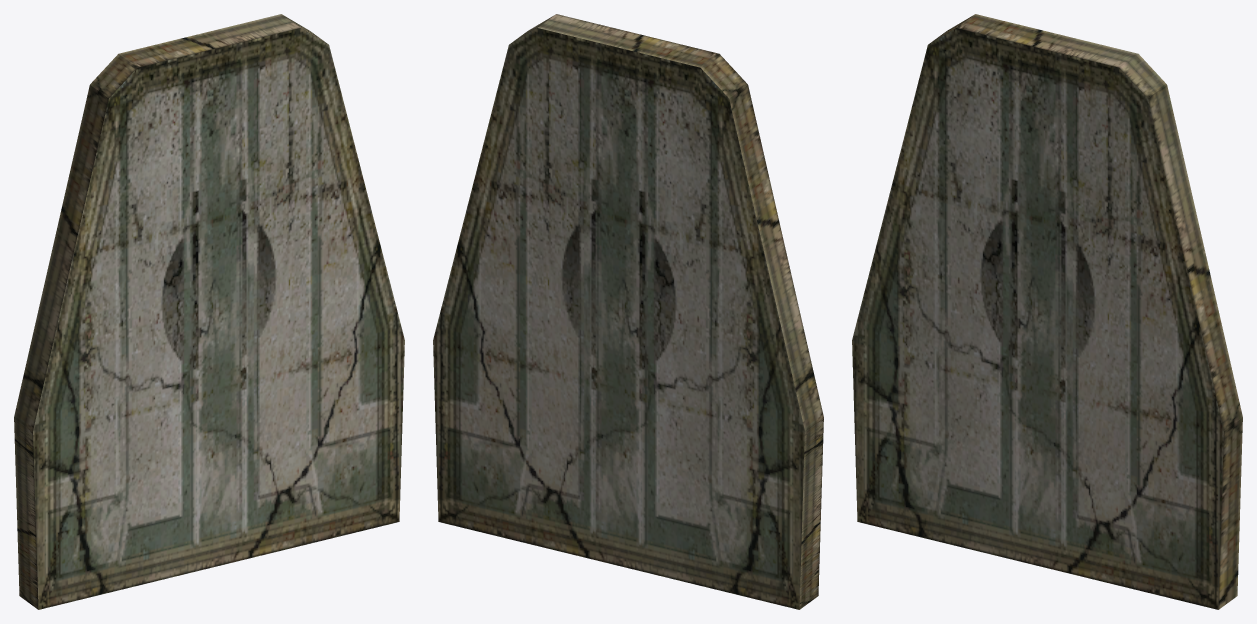
Rendered from thm_yavn_ljt_extdoor_l0.fbx.
3 renders of one model, left to right at view 1: azimuth 30°, elevation 25°; view 2: azimuth 150°, elevation 25°; view 3: azimuth 330°, elevation 25°, orthographic.
Parts seen in each view (by area): view 1: mesh_node; view 2: mesh_node; view 3: mesh_node.
Boxes of the visible parts, x1,y1,x2,y2 form: mesh_node: (14, 14, 404, 609); mesh_node: (433, 14, 823, 609); mesh_node: (852, 14, 1242, 609).
Bounding box in the file's own units: 2.31 × 3.08 × 0.2048.
